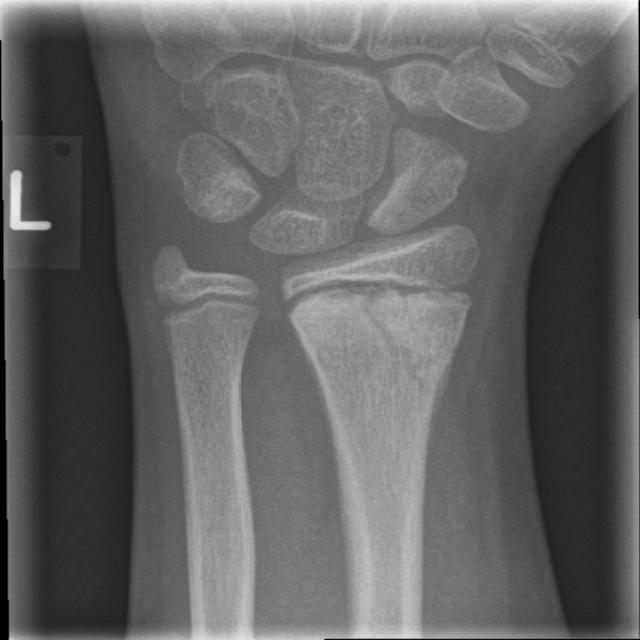radius fracture: (279, 292, 486, 484)
